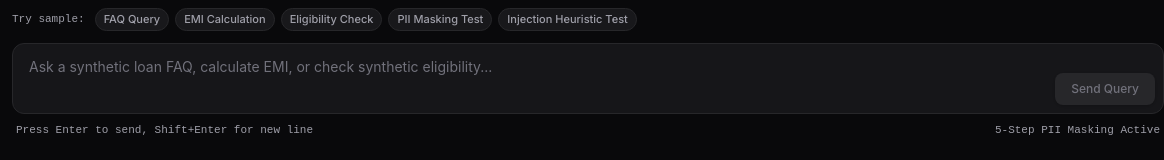
Test: ChatInput Component › updates text state and fires onSendMessage on Enter keypress
The width and height of the screenshot is (1164, 160).
Step 1. Replace the text in the text box named "Ask a loan question" with "What is the LTV limit?" → (534, 78), box [21,52,1047,105]
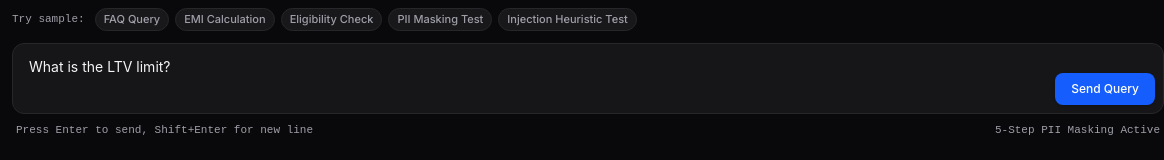
Step 2. Press Enter in the text box named "Ask a loan question", box [21,52,1047,105]
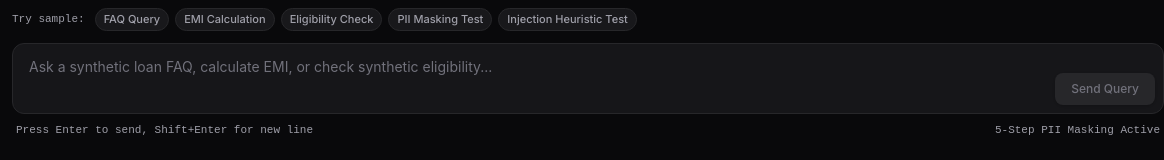
Check: the text box named "Ask a loan question" is empty, box [21,52,1047,105]
